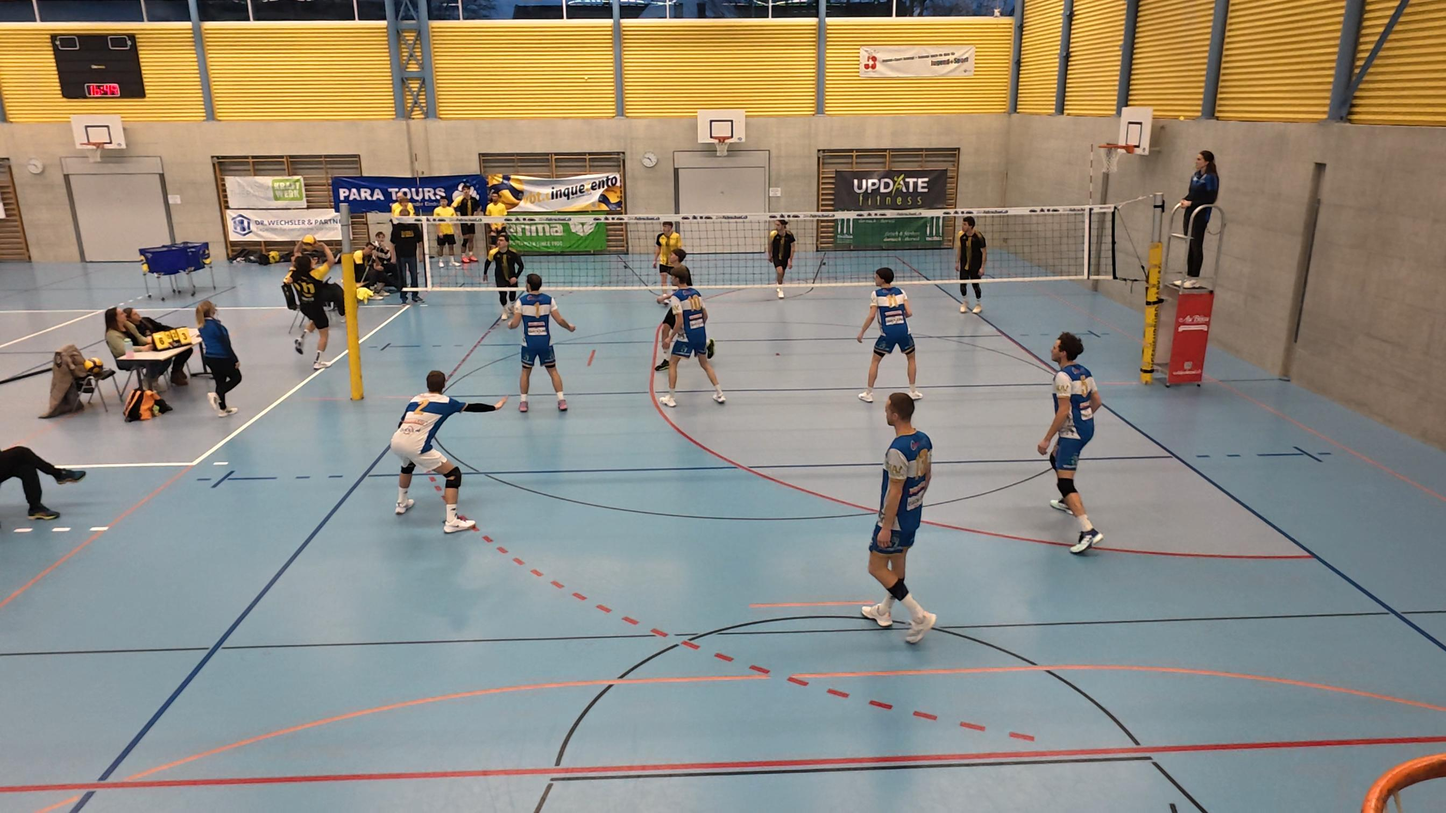Player: (389, 370, 506, 533), (863, 394, 936, 643), (1042, 333, 1102, 553), (506, 272, 579, 413), (656, 273, 725, 406), (856, 268, 918, 403), (647, 247, 693, 370), (491, 233, 528, 327), (954, 217, 986, 317), (649, 214, 685, 301), (768, 210, 798, 298)
Set: (286, 237, 337, 374)
ball: (301, 232, 321, 251)
